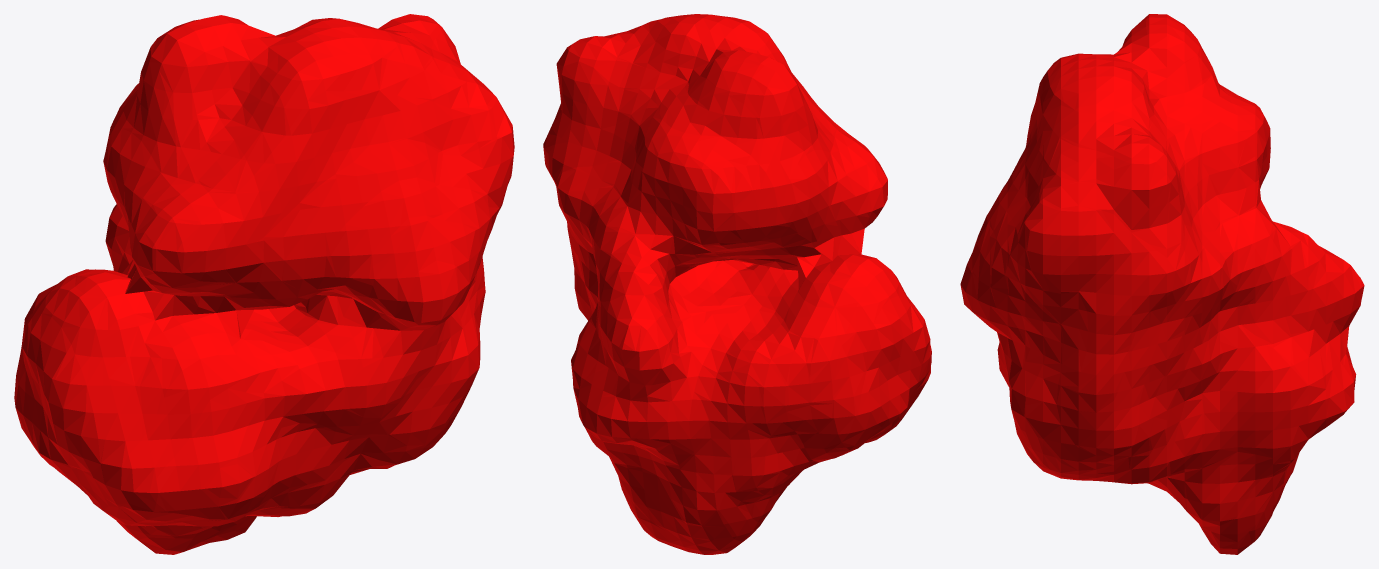
The model's file is yqhD_coarse.dae.
The picture shows the model from 3 angles, left to right: view 1: azimuth 30°, elevation 25°; view 2: azimuth 150°, elevation 25°; view 3: azimuth 270°, elevation 25°; orthographic projection. The views are drawn at different scales.
Visible parts, largest first — view 1: yqhD; view 2: yqhD; view 3: yqhD.
Boxes of the visible parts, x1,y1,x2,y2 form: yqhD: (14,14,514,554); yqhD: (543,14,931,554); yqhD: (960,14,1364,554).
Size of the model in its own units: 57.49 by 71.41 by 52.01.
